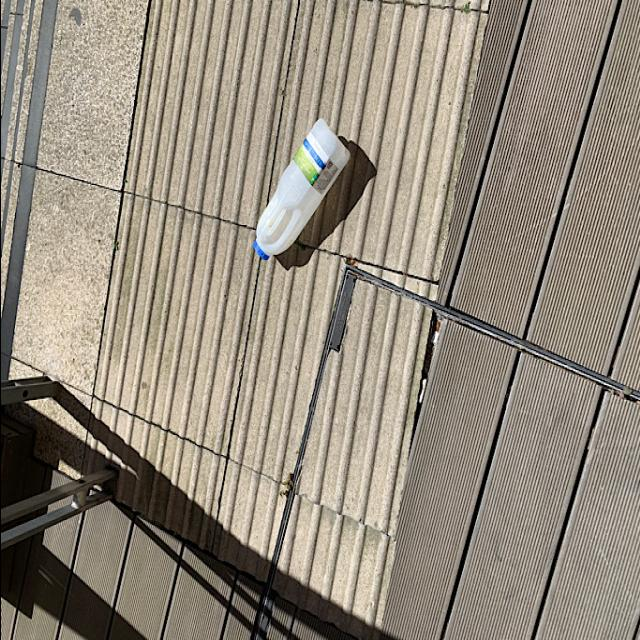HDPEM: (246, 116, 346, 268)
